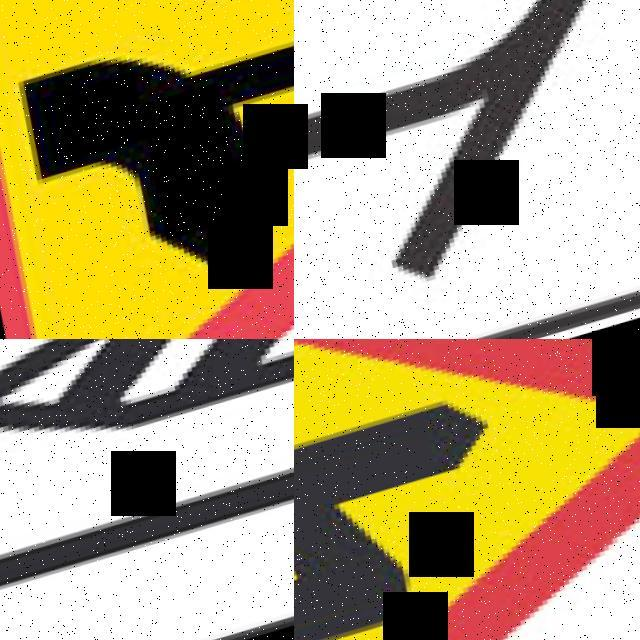139: (294, 339, 640, 640)
166: (0, 0, 294, 339)
66: (0, 339, 294, 640)
adjoining way: (294, 0, 640, 339)
